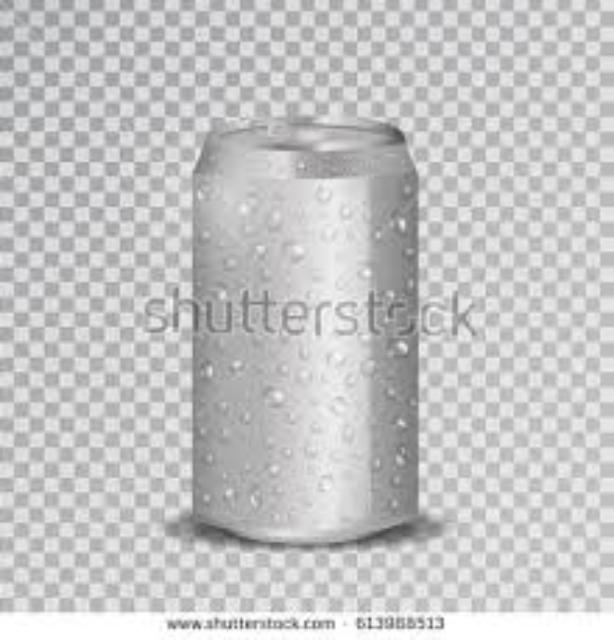metal: (190, 115, 414, 537)
